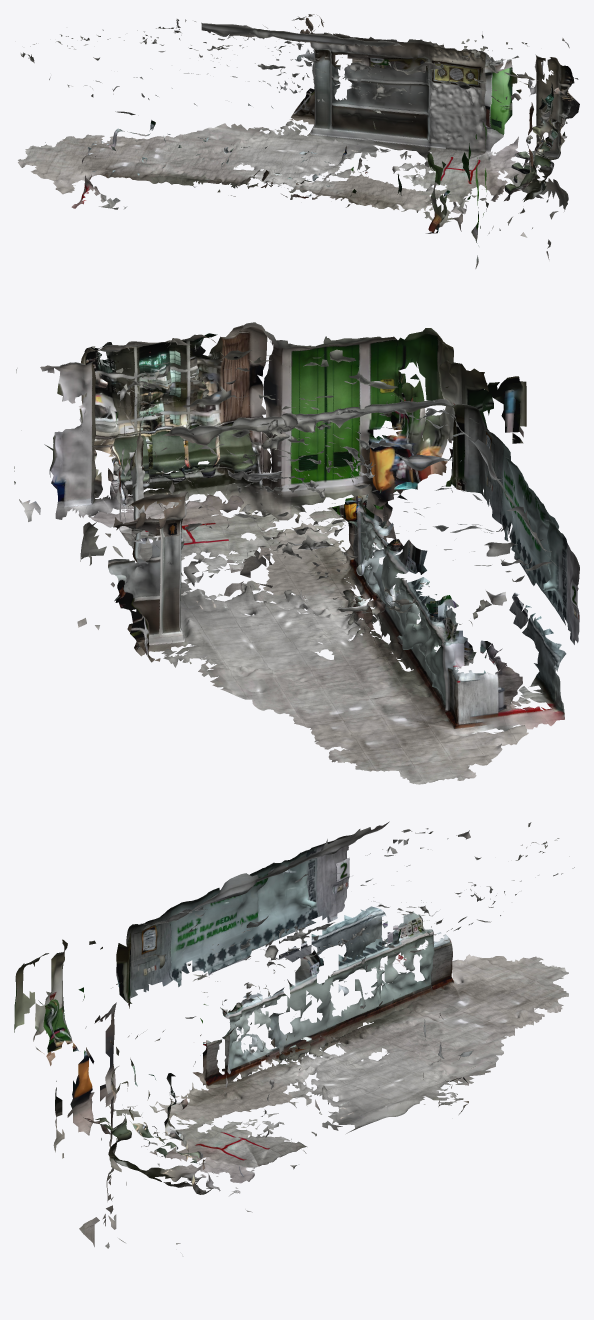
Rendered from 144566-2C-tex.glb.
3 views of the same model, one above another, from view 1: azimuth 30°, elevation 25°; view 2: azimuth 150°, elevation 25°; view 3: azimuth 270°, elevation 25° (orthographic). The views are drawn at different scales.
Parts seen in each view (by area): view 1: Node; view 2: Node; view 3: Node.
Part boxes in pixels (x1,y1,x2,y2): Node: (18,14,579,268); Node: (14,322,579,784); Node: (14,821,574,1248).
Bounding box in the file's own units: 10.78 × 4.91 × 9.67.
Materials: 17 (17 with a texture image).
